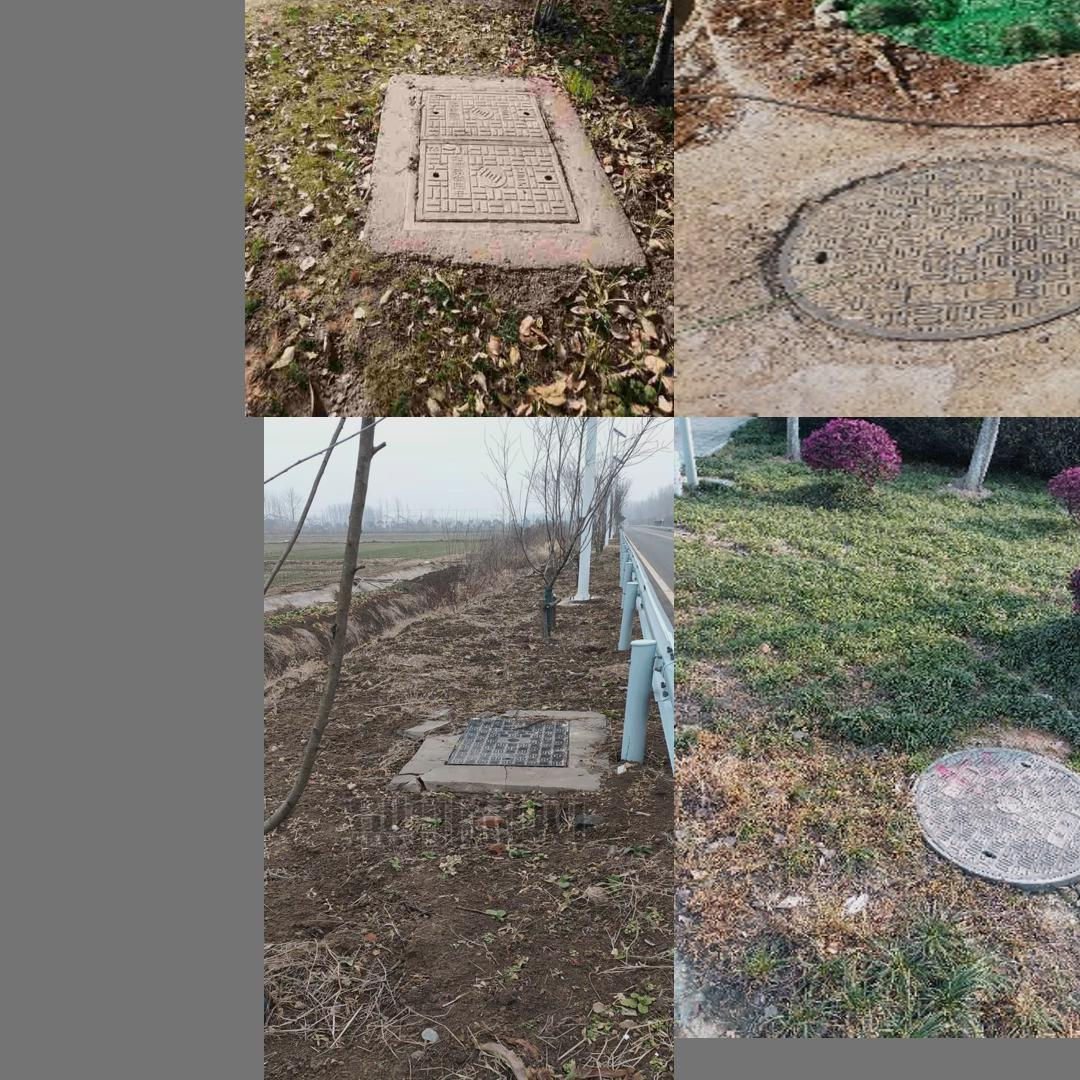good: (766, 155, 1080, 341), (402, 85, 591, 231), (911, 741, 1080, 889), (438, 704, 579, 769)
